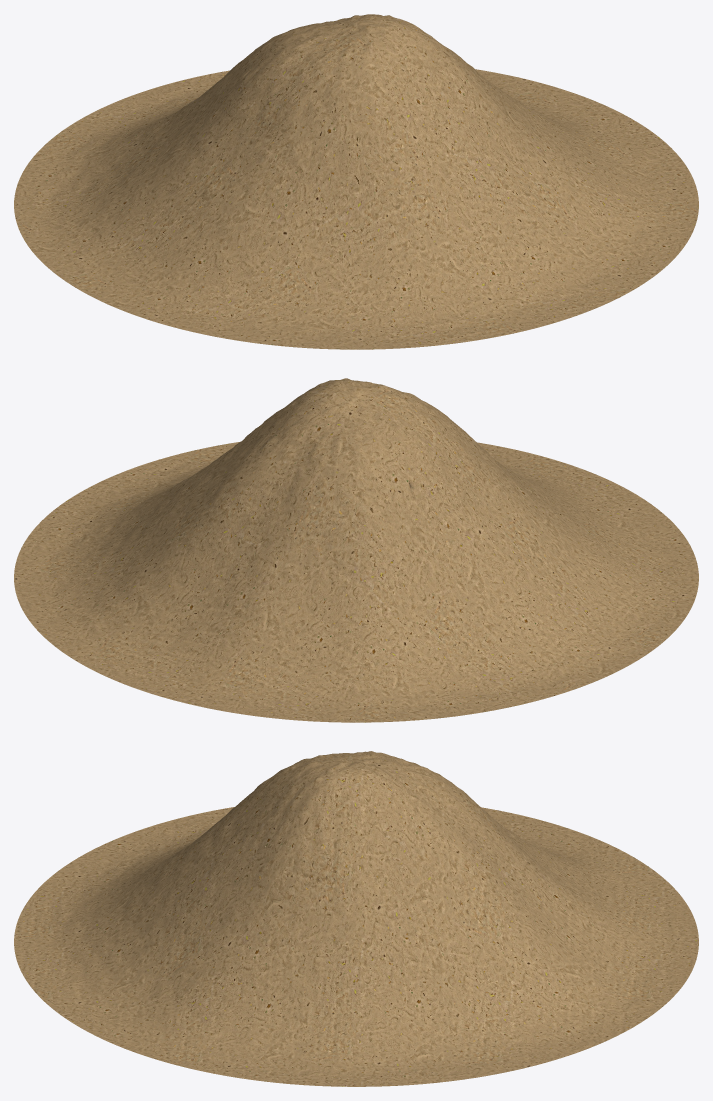
The model's file is ALV-AGR-002.glb.
3 views of the same model, one above another, from view 1: azimuth 30°, elevation 25°; view 2: azimuth 150°, elevation 25°; view 3: azimuth 270°, elevation 25° (orthographic).
Parts seen in each view (by area): view 1: Monte de areia (0,1 m³); view 2: Monte de areia (0,1 m³); view 3: Monte de areia (0,1 m³).
Part boxes in pixels (bbox=[...]): Monte de areia (0,1 m³): bbox=[14, 14, 698, 349]; Monte de areia (0,1 m³): bbox=[14, 378, 698, 722]; Monte de areia (0,1 m³): bbox=[14, 751, 698, 1086].
Bounding box in the file's own units: 1.14 × 0.3373 × 1.14.
1 material, 1 textured.
